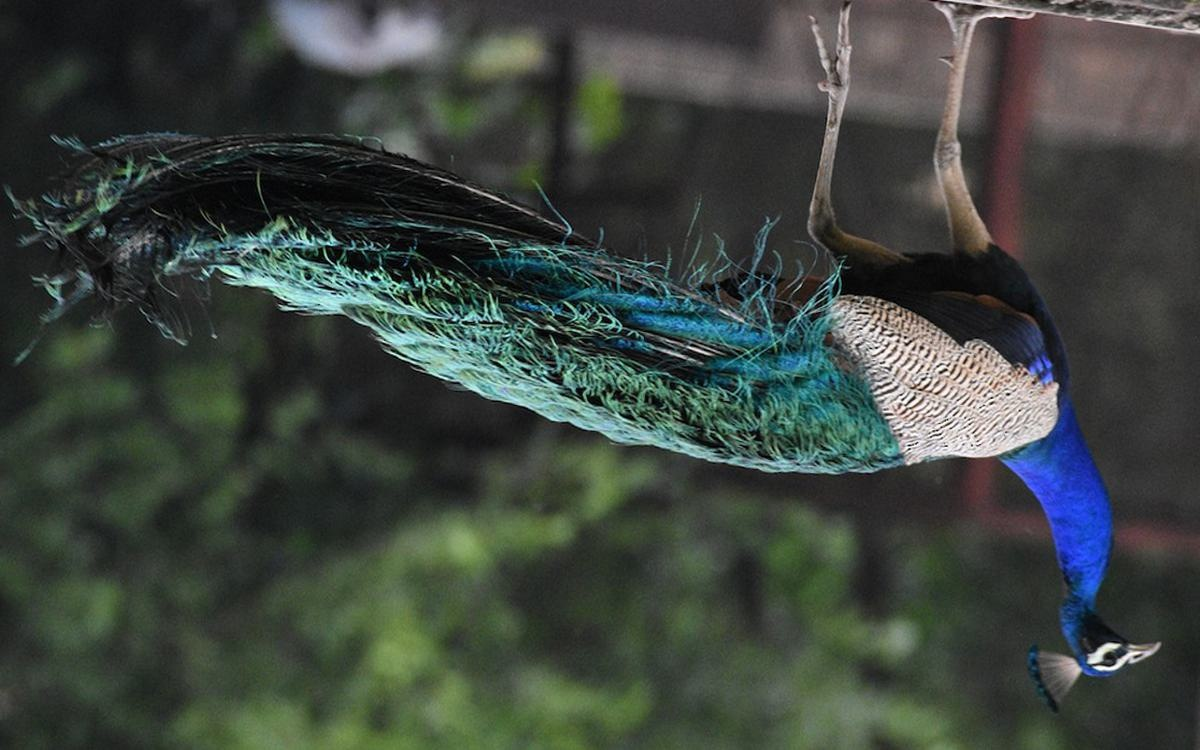peacock: (33, 56, 1175, 708)
